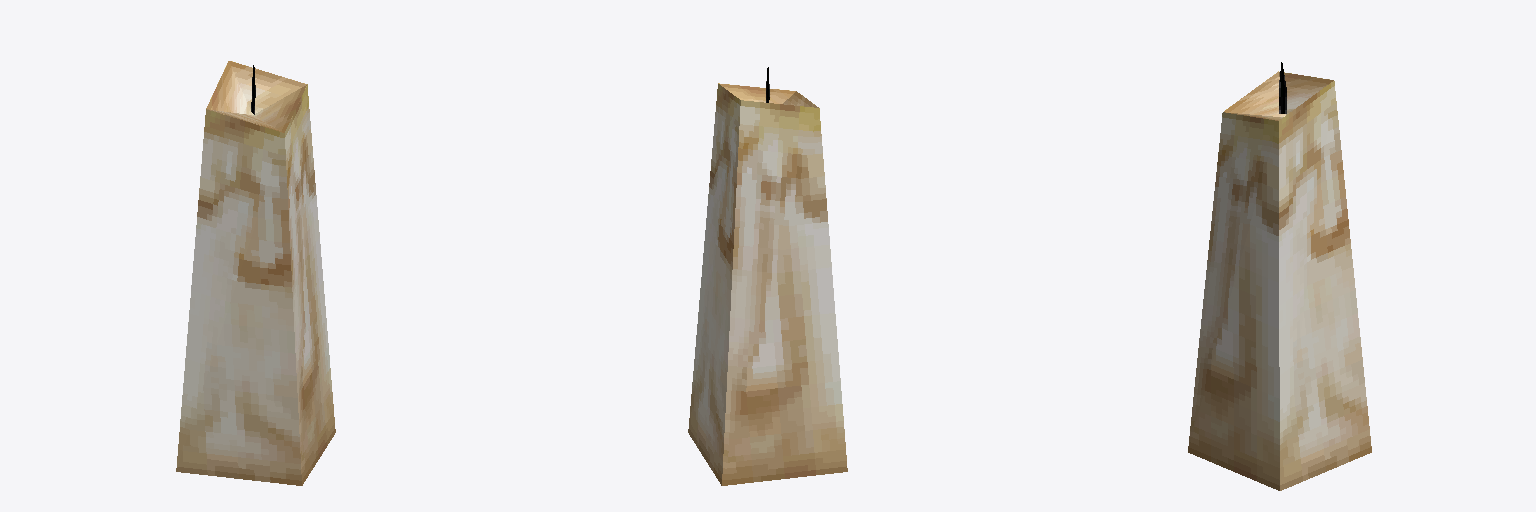
3 renders of one model, left to right at view 1: azimuth 30°, elevation 25°; view 2: azimuth 150°, elevation 25°; view 3: azimuth 270°, elevation 25°, orthographic.
Parts seen in each view (by area): view 1: object 1; view 2: object 1; view 3: object 1.
Part boxes in pixels (left/top/right/bottom): object 1: left=176, top=61, right=335, bottom=485; object 1: left=688, top=67, right=847, bottom=485; object 1: left=1188, top=62, right=1371, bottom=490.
Bounding box in the file's own units: 0.2399 × 0.5641 × 0.2399.
Materials: 2 (2 with a texture image).